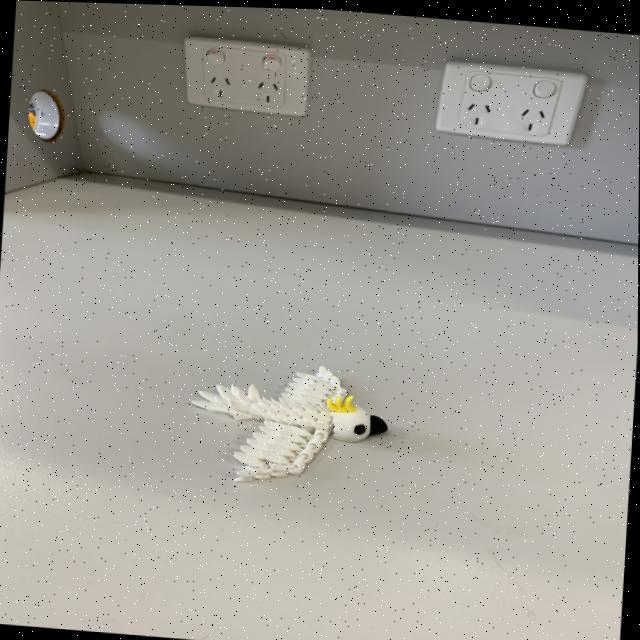cockatoo: (179, 347, 395, 505)
